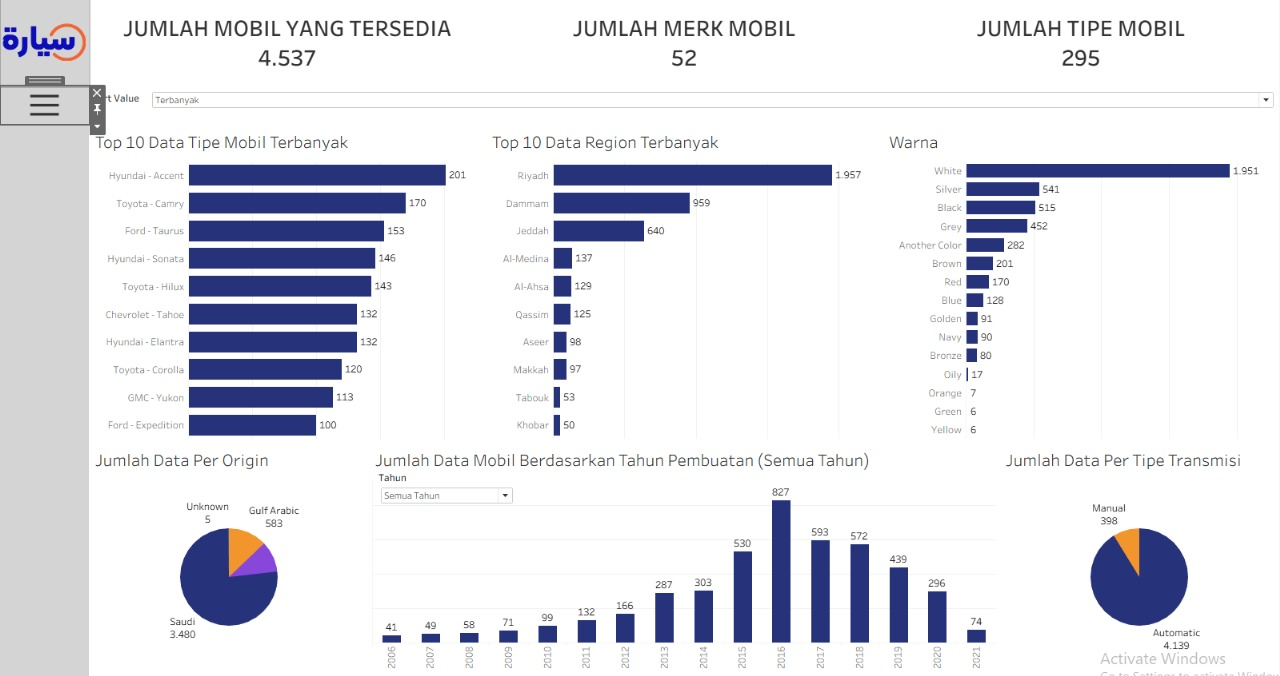

This screenshot's page, from the dashboard's own definition file:
{"tool":"tableau","page":{"name":"Dashboard 1","canvas":[1600,850],"ordinal":0},"visuals":[{"type":"image","param":"Image/Syarah_id9Q6rmZ9-_0.png","box":[0,0,112,110]},{"type":"worksheet","title":"Jumlah Mobil Yang Tersedia","mark":"Automatic","box":[112,0,496,110]},{"type":"worksheet","title":"Jumlah Merk Mobil","mark":"Automatic","box":[608,0,496,110]},{"type":"worksheet","title":"Jumlah Tipe Mobil","mark":"Automatic","box":[1104,0,496,110]},{"type":"dashboard-object","box":[110.9,7,533.3,52]},{"type":"dashboard-object","box":[110.9,59,533.3,52]},{"type":"dashboard-object","box":[0,110,112,47]},{"type":"parameter","param":"[Parameters].[Parameter 3]","box":[112,110,1488,47]},{"type":"worksheet","title":"Data Tipe Mobil","mark":"Automatic","rows":["Kategori (copy)_1208935056705351688"],"cols":["Median Harga Asli (copy)_1208935056702689284"],"box":[112,157,496,235]},{"type":"worksheet","title":"Region Terbanyak Dijual","mark":"Automatic","rows":["Region"],"cols":["Median Harga Asli (copy)_1208935056702689284"],"box":[608,157,496,235]},{"type":"worksheet","title":"Sheet 11","mark":"Automatic","rows":["Color"],"cols":["Median Harga Asli (copy)_1208935056702689284"],"box":[1104,157,496,235]},{"type":"worksheet","title":"Data Region","mark":"Pie","box":[112,392,288,229]},{"type":"worksheet","title":"Sheet 10","mark":"Automatic","rows":["Median Harga Asli (copy)_1208935056702689284"],"cols":["Year"],"box":[400,392,888,229]},{"type":"worksheet","title":"Tipe Transmisi","mark":"Pie","box":[1288,392,312,229]},{"type":"parameter","param":"[Parameters].[Parameter 5]","box":[411,430,171,44]},{"type":"worksheet","title":"Sheet 15","mark":"Circle","rows":["Calculation_1116611263988678657"],"cols":["Median Harga Asli (copy)_1208935056702689284"],"box":[112,621,1309,229]},{"type":"parameter","param":"[Parameters].[Parameter 2]","box":[1421,621,179,32]},{"type":"legend","title":"Sheet 15","param":"[federated.1rhdh230lvbo1x1fy1lbe0ur9hvu].[none:Calculation_1208935056693993472:n","box":[1421,653,179,197]}]}

Visuals, with their boxes on the page's 1600x850 design canvas (x1, y1, x2, y2). These are canvas units, not pixel positions in the 1280x676 screenshot, which may show the page scaled, cropped or inside an application window:
image: pyautogui.locateOnScreen(0, 0, 112, 110)
"Jumlah Mobil Yang Tersedia" worksheet: pyautogui.locateOnScreen(112, 0, 608, 110)
"Jumlah Merk Mobil" worksheet: pyautogui.locateOnScreen(608, 0, 1104, 110)
"Jumlah Tipe Mobil" worksheet: pyautogui.locateOnScreen(1104, 0, 1600, 110)
dashboard-object: pyautogui.locateOnScreen(111, 7, 644, 59)
dashboard-object: pyautogui.locateOnScreen(111, 59, 644, 111)
dashboard-object: pyautogui.locateOnScreen(0, 110, 112, 157)
parameter: pyautogui.locateOnScreen(112, 110, 1600, 157)
"Data Tipe Mobil" worksheet: pyautogui.locateOnScreen(112, 157, 608, 392)
"Region Terbanyak Dijual" worksheet: pyautogui.locateOnScreen(608, 157, 1104, 392)
"Sheet 11" worksheet: pyautogui.locateOnScreen(1104, 157, 1600, 392)
"Data Region" worksheet (Pie marks): pyautogui.locateOnScreen(112, 392, 400, 621)
"Sheet 10" worksheet: pyautogui.locateOnScreen(400, 392, 1288, 621)
"Tipe Transmisi" worksheet (Pie marks): pyautogui.locateOnScreen(1288, 392, 1600, 621)
parameter: pyautogui.locateOnScreen(411, 430, 582, 474)
"Sheet 15" worksheet (Circle marks): pyautogui.locateOnScreen(112, 621, 1421, 850)
parameter: pyautogui.locateOnScreen(1421, 621, 1600, 653)
"Sheet 15" legend: pyautogui.locateOnScreen(1421, 653, 1600, 850)
